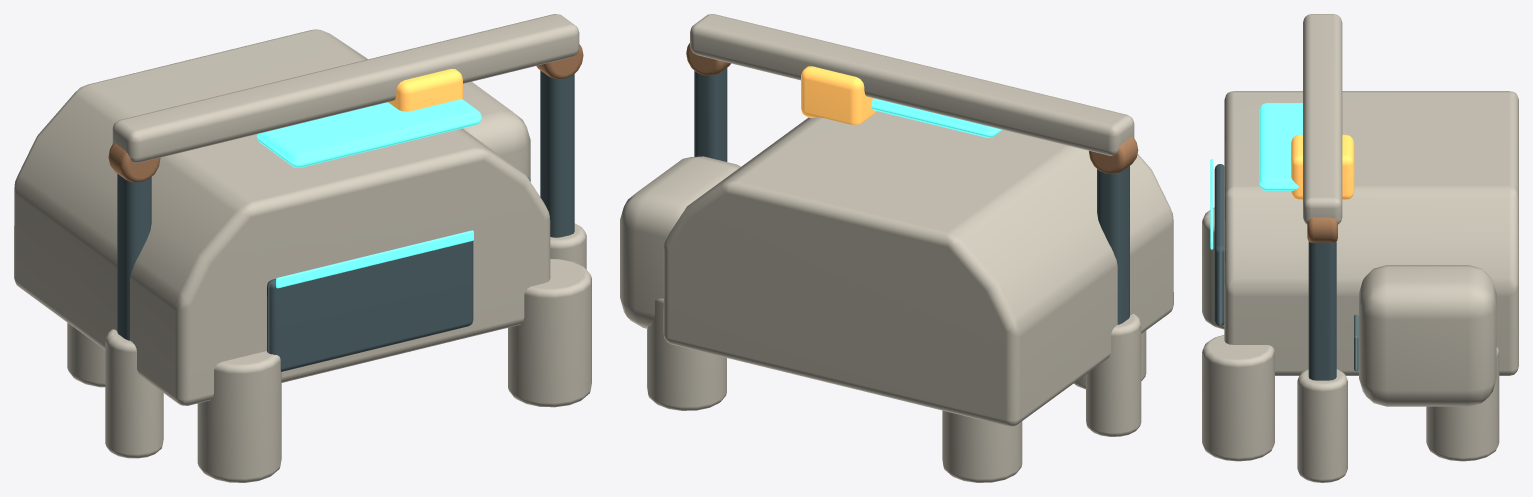
The model's file is equipment.glb.
The picture shows the model from 3 angles, left to right: view 1: azimuth 30°, elevation 25°; view 2: azimuth 150°, elevation 25°; view 3: azimuth 270°, elevation 25°; orthographic projection. The views are drawn at different scales.
Visible parts, largest first — view 1: Architecture, Hardware; view 2: Architecture, Hardware; view 3: Architecture, Hardware.
Part boxes in pixels (x1=…): Architecture: x1=14, y1=14, x2=591, y2=482; Hardware: x1=388, y1=69, x2=462, y2=111; Architecture: x1=620, y1=14, x2=1173, y2=482; Hardware: x1=801, y1=66, x2=877, y2=124; Architecture: x1=1202, y1=14, x2=1518, y2=482; Hardware: x1=1291, y1=134, x2=1354, y2=200.
Bounding box in the file's own units: 3.36 × 2.2 × 2.26.
